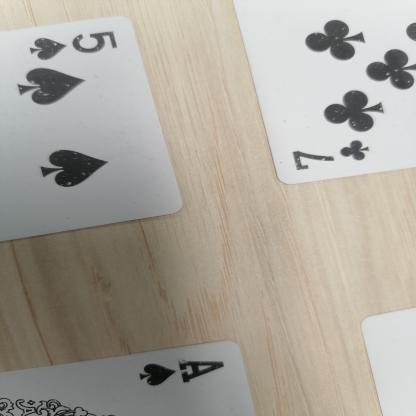5S: (24, 21, 124, 63)
7C: (284, 137, 372, 177)
AS: (124, 343, 239, 396)
